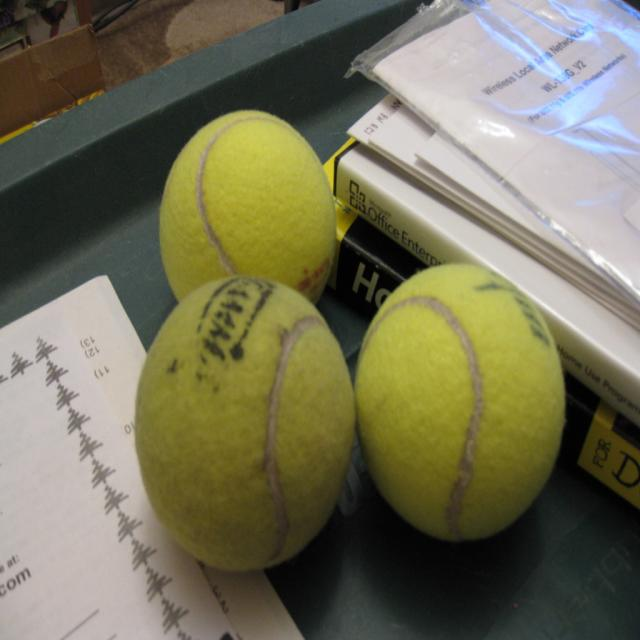Tennis ball: (136, 278, 354, 577), (354, 262, 566, 541), (159, 110, 340, 307)
